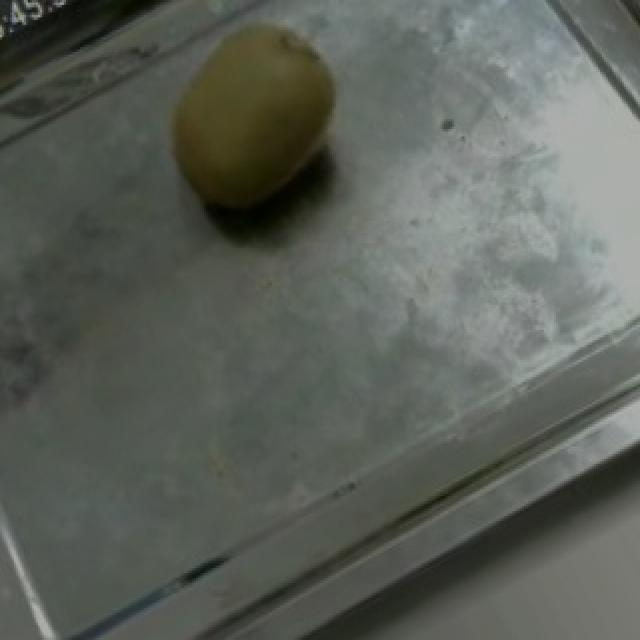Fruit: (128, 0, 374, 258)
